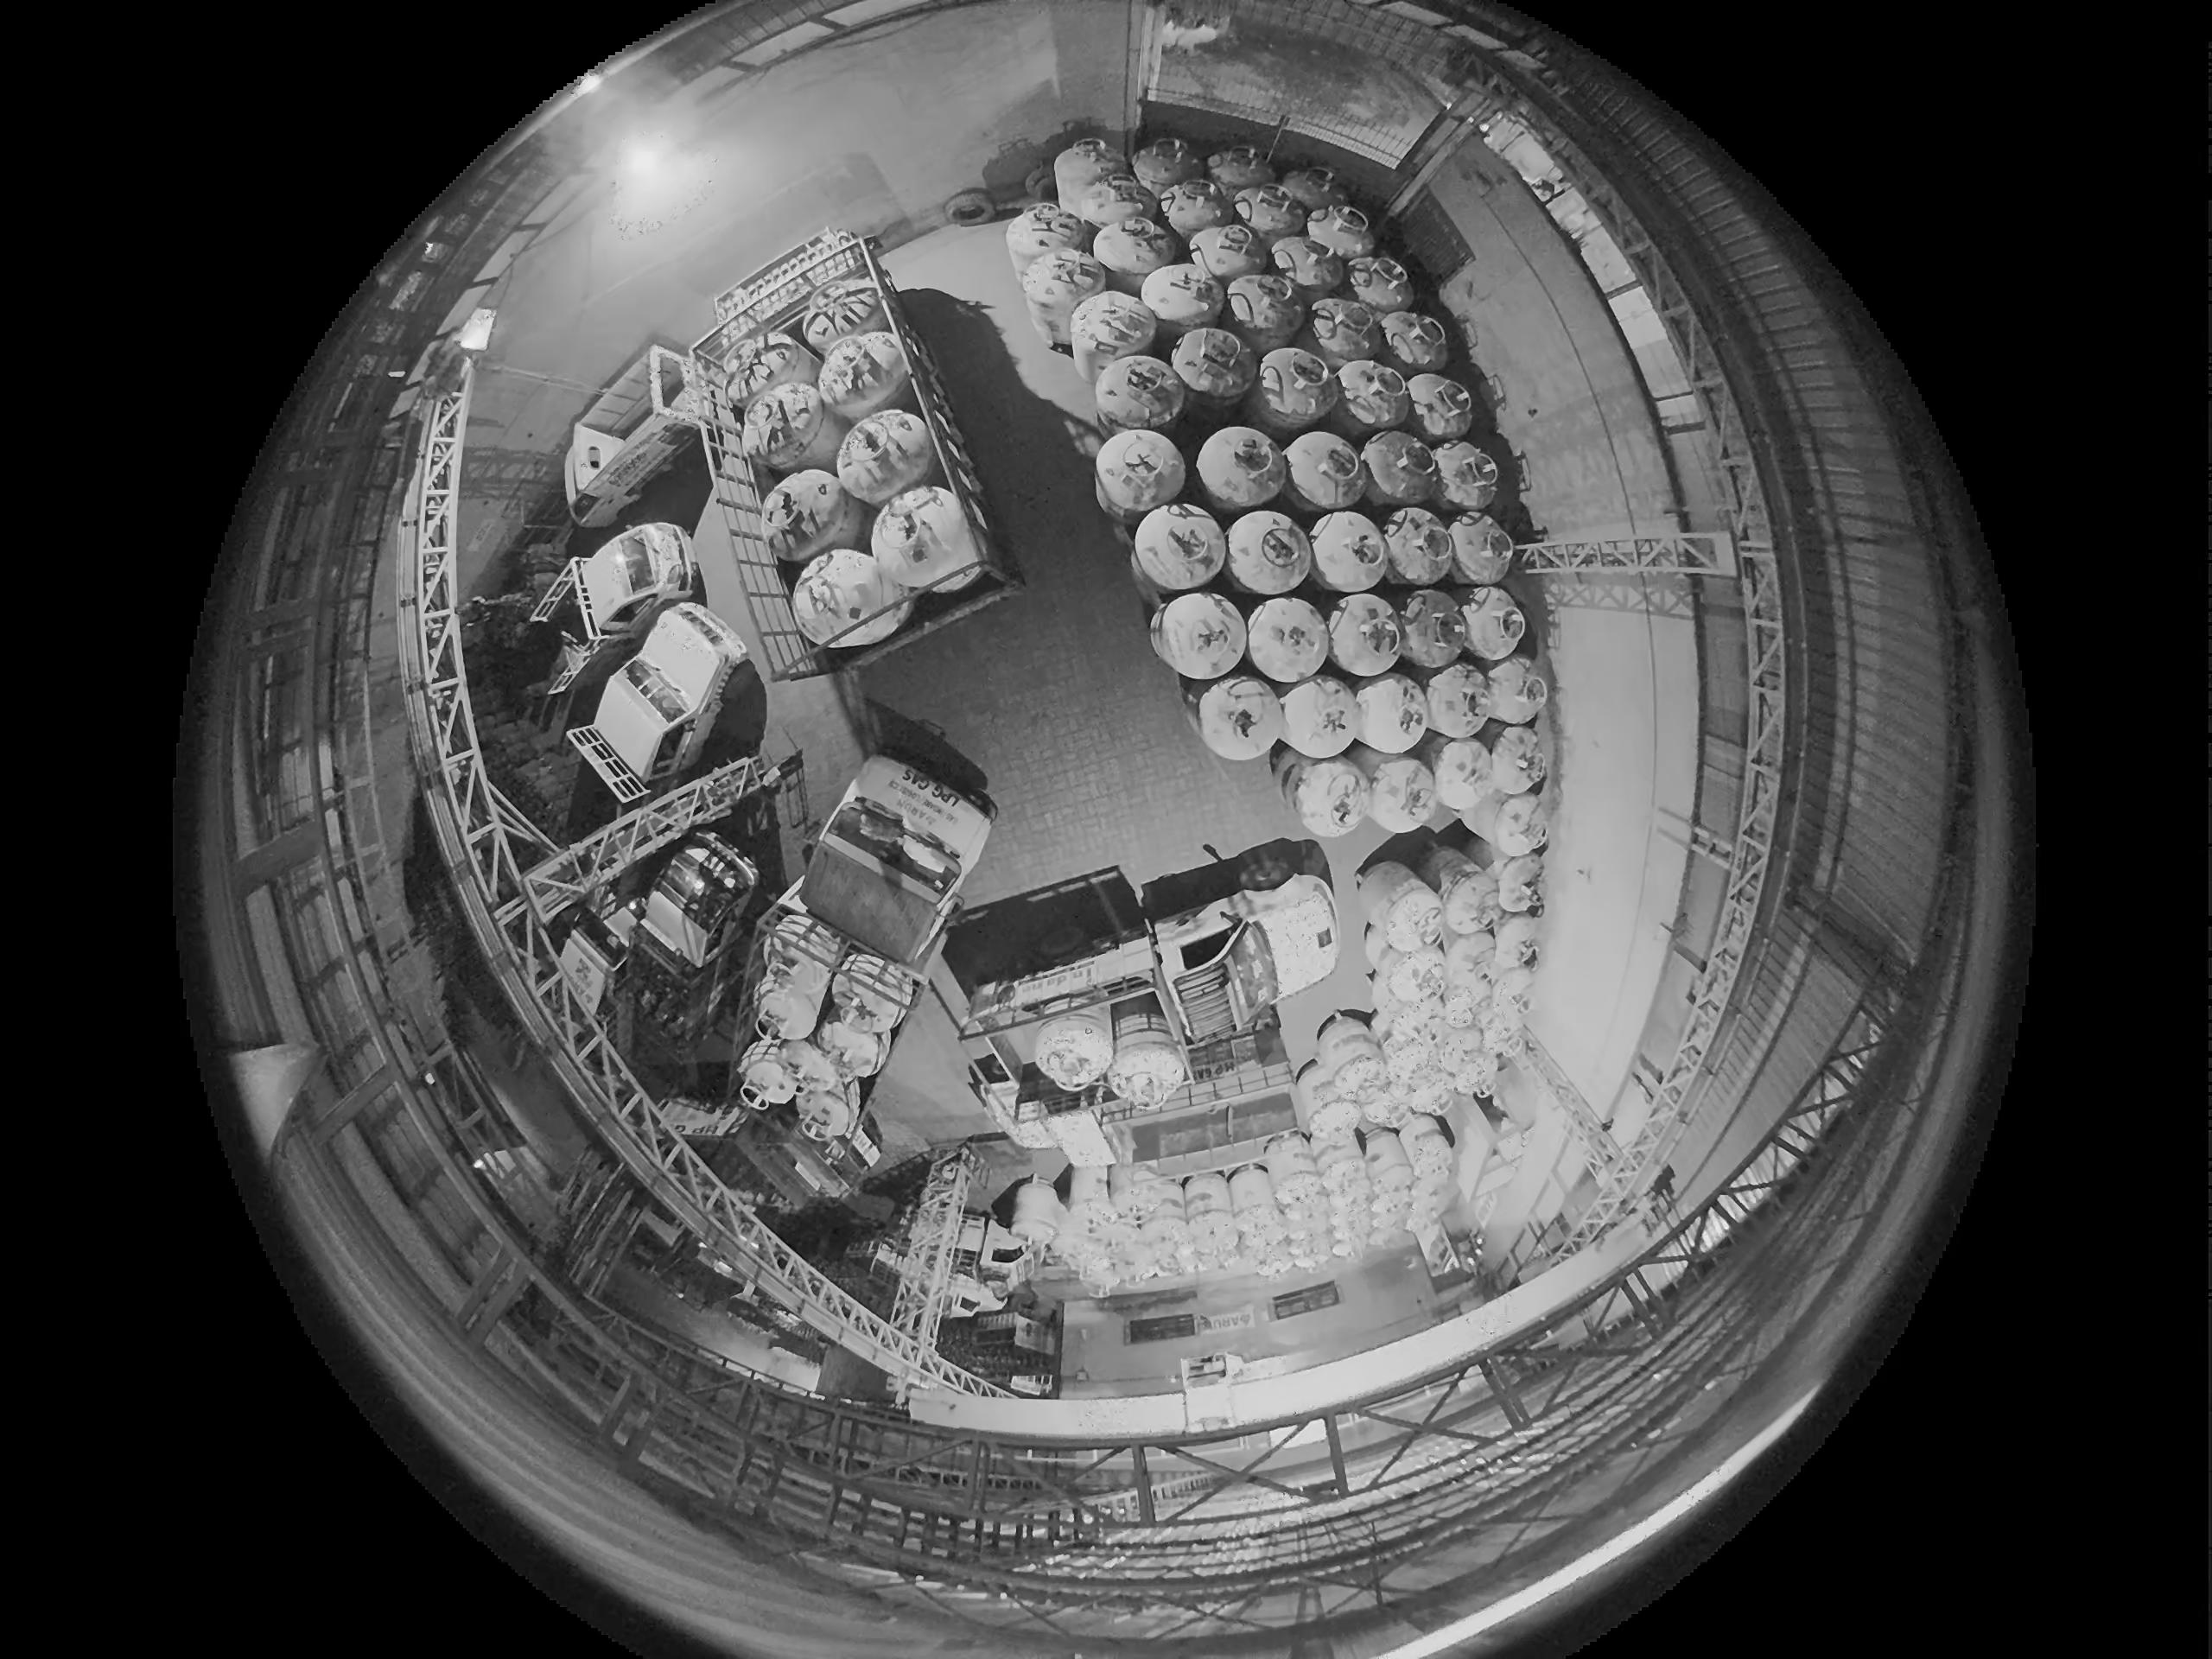cylinder: (855, 491, 993, 599), (1235, 875, 1341, 999), (787, 552, 887, 671), (1099, 425, 1195, 525), (1103, 993, 1186, 1107), (740, 383, 838, 476), (1151, 589, 1249, 680), (815, 329, 913, 420), (756, 477, 864, 558), (1268, 1140, 1336, 1265), (1132, 502, 1226, 591), (1195, 425, 1287, 512), (719, 333, 819, 413), (1069, 289, 1158, 378), (1195, 673, 1284, 760), (1092, 352, 1183, 437), (1224, 509, 1313, 594), (1019, 261, 1101, 354), (848, 423, 951, 497), (1306, 507, 1392, 594), (1244, 596, 1331, 681), (1282, 430, 1367, 516), (1169, 326, 1256, 408), (799, 279, 892, 355), (1355, 861, 1435, 946), (1280, 674, 1362, 756), (1033, 1014, 1115, 1096), (1325, 591, 1406, 674), (1291, 1049, 1371, 1133), (1284, 755, 1369, 833), (1141, 261, 1228, 336), (1360, 429, 1440, 509), (1254, 347, 1336, 425), (1005, 202, 1092, 275), (1352, 673, 1430, 751), (1379, 507, 1456, 587), (1228, 1162, 1291, 1260), (1001, 1171, 1075, 1255), (1332, 357, 1411, 434), (1223, 272, 1306, 343), (1094, 211, 1179, 281), (1367, 756, 1442, 833), (1052, 139, 1129, 213), (1456, 586, 1527, 662), (1188, 218, 1268, 286), (1428, 439, 1501, 512), (1423, 662, 1493, 739), (1397, 589, 1467, 666), (1402, 371, 1475, 443), (1308, 298, 1385, 366), (1446, 511, 1514, 586), (772, 1039, 846, 1107), (1479, 655, 1548, 725), (1430, 737, 1496, 809), (752, 978, 824, 1044), (1158, 176, 1235, 237), (1369, 943, 1439, 1009), (1378, 310, 1449, 375), (1487, 723, 1550, 796), (1268, 235, 1343, 296), (1439, 870, 1503, 939), (1305, 202, 1376, 265), (1076, 174, 1151, 234), (1381, 1026, 1446, 1093), (1420, 843, 1487, 906), (817, 1016, 887, 1077), (1235, 186, 1306, 246), (1313, 1009, 1379, 1072), (1345, 254, 1416, 312), (1489, 789, 1550, 856), (1440, 929, 1500, 995), (1174, 673, 1231, 741), (735, 1049, 799, 1108), (1479, 993, 1534, 1061), (1205, 145, 1277, 197), (1329, 1046, 1390, 1105), (1109, 1159, 1169, 1220), (794, 1086, 855, 1145), (1132, 138, 1197, 193), (1400, 1115, 1454, 1180), (1477, 828, 1538, 884), (1493, 852, 1547, 915), (1360, 1127, 1414, 1190), (1137, 1216, 1191, 1279), (1280, 164, 1346, 214), (1439, 1026, 1494, 1086), (1374, 999, 1435, 1053), (1486, 960, 1538, 1023), (1491, 915, 1543, 976), (1402, 1060, 1456, 1115), (1440, 969, 1493, 1026), (1064, 1162, 1116, 1220), (1186, 1209, 1238, 1267), (1275, 751, 1320, 816), (1177, 1169, 1231, 1223), (1010, 1105, 1071, 1150), (1318, 1154, 1369, 1208), (1366, 1180, 1416, 1230), (1068, 1197, 1116, 1248), (1312, 1131, 1364, 1175), (944, 188, 995, 228), (1263, 1129, 1310, 1171), (1158, 1192, 1202, 1236), (1022, 164, 1061, 202)
truck: (664, 239, 1033, 674), (939, 908, 1383, 1115), (798, 723, 972, 1148), (556, 826, 719, 1244), (556, 633, 719, 836), (540, 392, 674, 514), (531, 528, 671, 645)
